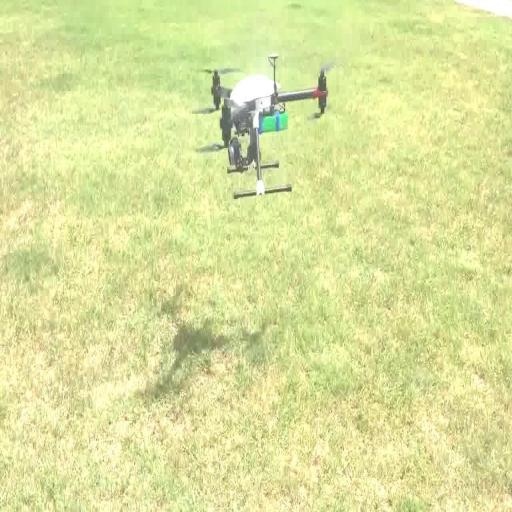drone: (192, 46, 332, 198)
